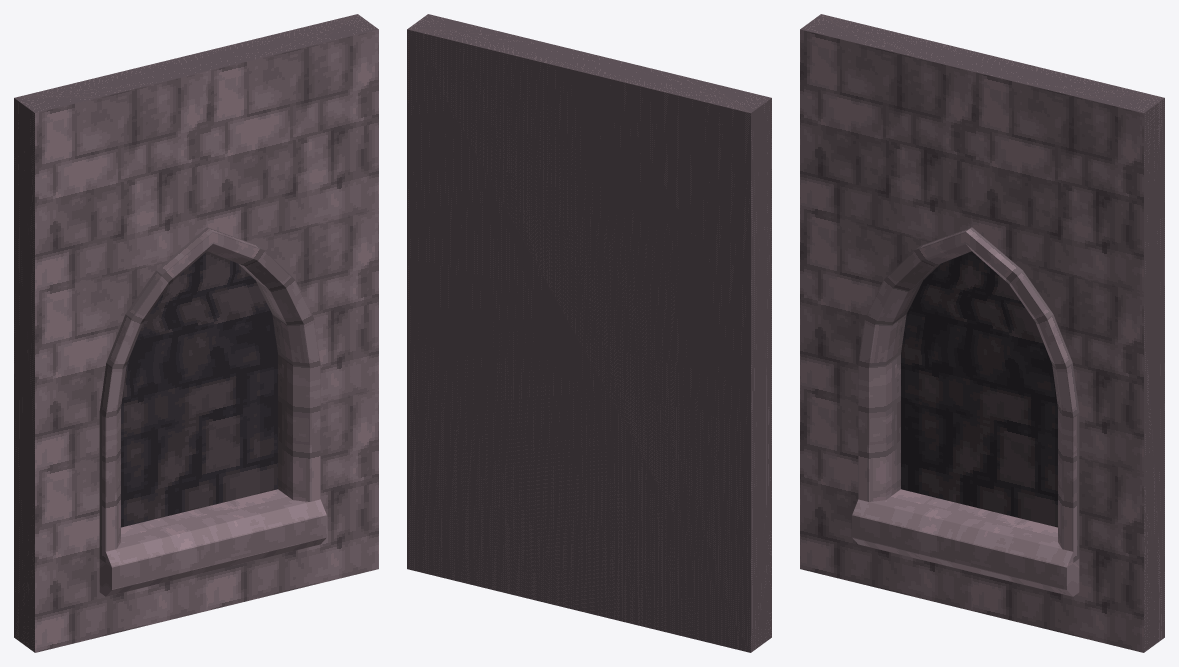
The model's file is wandnische_t15_a.glb.
3 renders of one model, left to right at view 1: azimuth 30°, elevation 25°; view 2: azimuth 150°, elevation 25°; view 3: azimuth 330°, elevation 25°, orthographic.
Visible parts, largest first — view 1: platte, gewaende, sohlbank; view 2: platte; view 3: platte, gewaende, sohlbank.
Part boxes in pixels (<box>): platte: <box>14,14,378,652</box>; gewaende: <box>99,227,320,562</box>; sohlbank: <box>99,489,326,596</box>; platte: <box>407,14,771,652</box>; platte: <box>800,14,1164,652</box>; gewaende: <box>858,227,1079,562</box>; sohlbank: <box>852,489,1079,596</box>.
Bounding box in the file's own units: 2 × 3 × 0.3375.
Materials: 1 (1 with a texture image).
